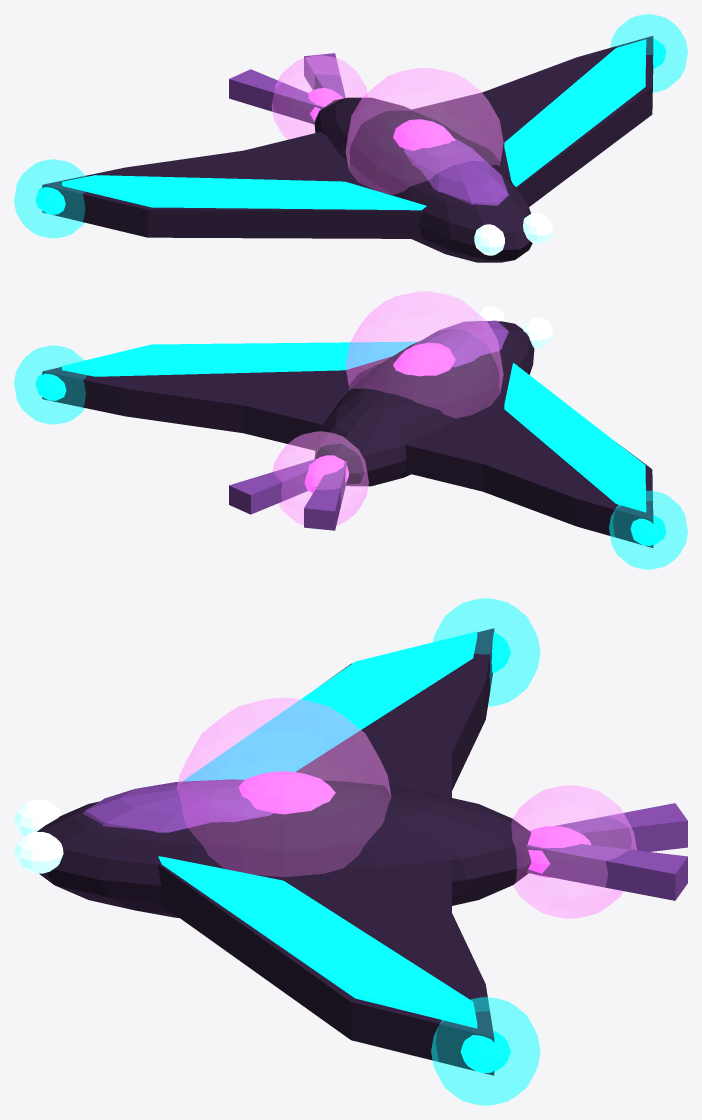
File: enemy_manta.glb
The picture shows the model from 3 angles, top to bottom: view 1: azimuth 30°, elevation 25°; view 2: azimuth 150°, elevation 25°; view 3: azimuth 270°, elevation 25°; orthographic projection. The views are drawn at different scales.
Visible parts, largest first — view 1: enemy_manta; view 2: enemy_manta; view 3: enemy_manta.
Boxes of the visible parts, bbox=[...] form: enemy_manta: bbox=[14, 14, 687, 262]; enemy_manta: bbox=[14, 291, 687, 569]; enemy_manta: bbox=[14, 598, 687, 1105].
Bounding box in the file's own units: 2.5 × 0.54 × 1.6.
